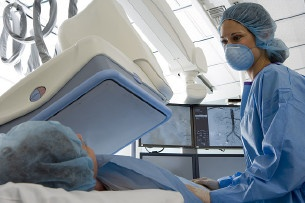Mask: (218, 27, 261, 71)
